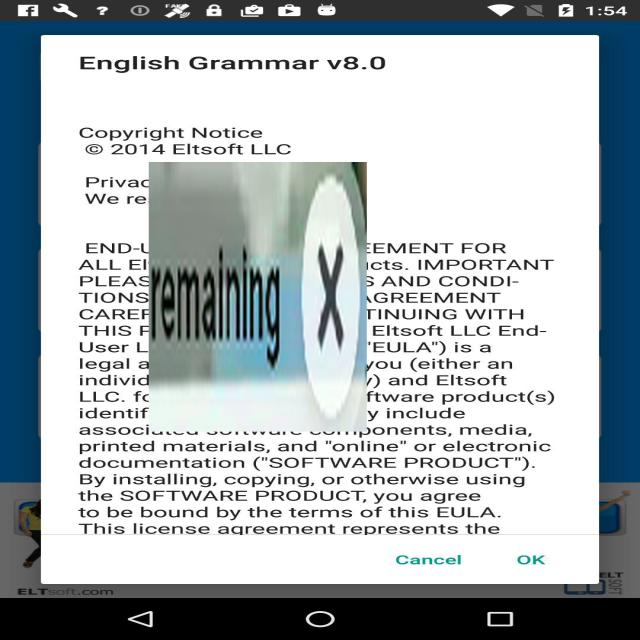misdirection: (149, 162, 367, 432)
